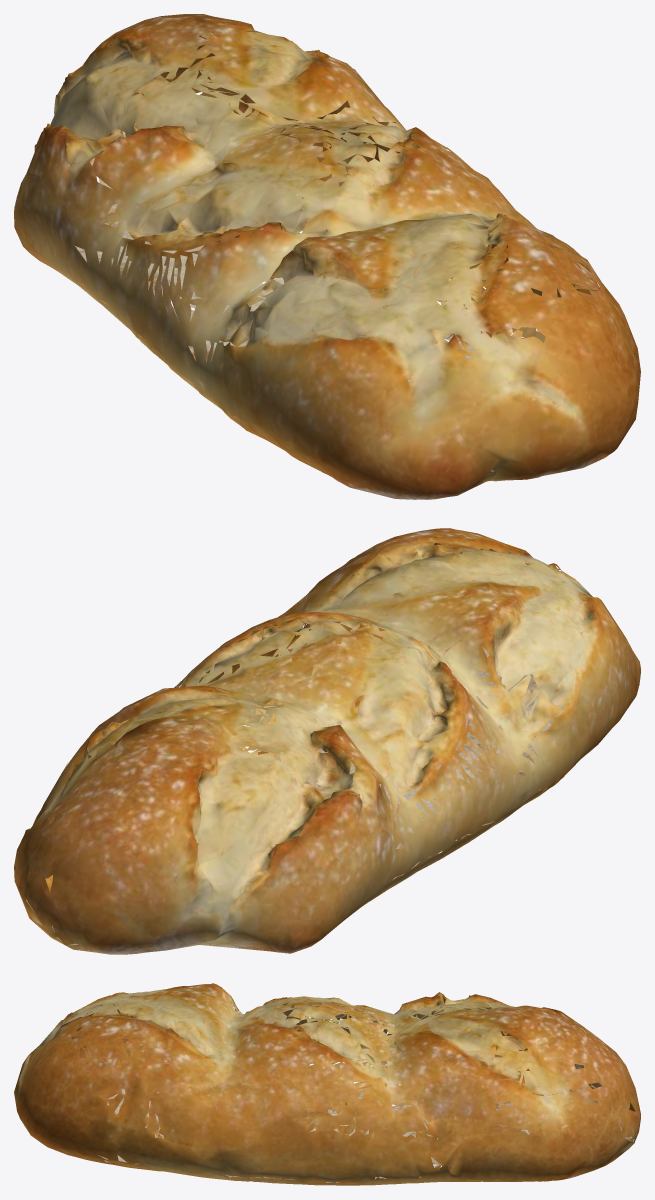
Rendered from bread.glb.
3 views of the same model, one above another, from view 1: azimuth 30°, elevation 25°; view 2: azimuth 150°, elevation 25°; view 3: azimuth 270°, elevation 25° (orthographic). The views are drawn at different scales.
Parts seen in each view (by area): view 1: Object_2, Object_3; view 2: Object_2, Object_3; view 3: Object_2, Object_3.
Part boxes in pixels (left/top/right/bottom): Object_2: left=14, top=14, right=640, bottom=499; Object_3: left=76, top=24, right=599, bottom=481; Object_2: left=24, top=528, right=640, bottom=954; Object_3: left=14, top=536, right=575, bottom=954; Object_2: left=14, top=983, right=640, bottom=1185; Object_3: left=58, top=992, right=633, bottom=1185.
Bounding box in the file's own units: 2.83 × 1.54 × 6.39.
Materials: 1 (1 with a texture image).
